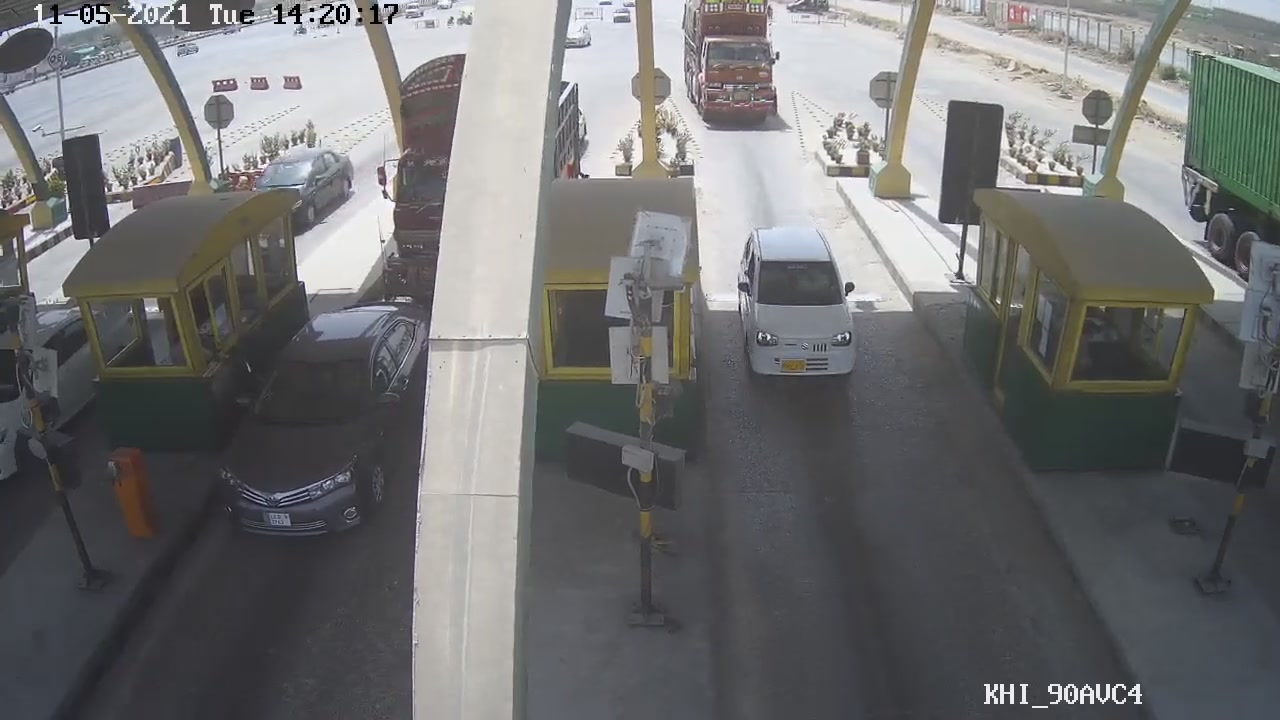F1: (727, 220, 870, 388)
